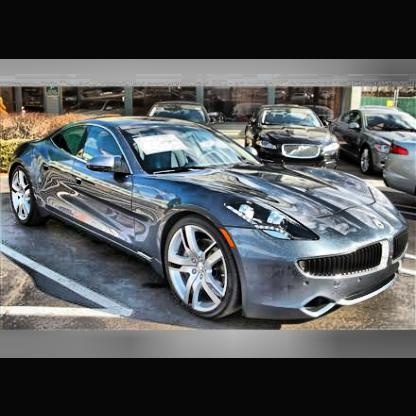Fisker Karma Sedan 2012: (11, 117, 412, 325)
